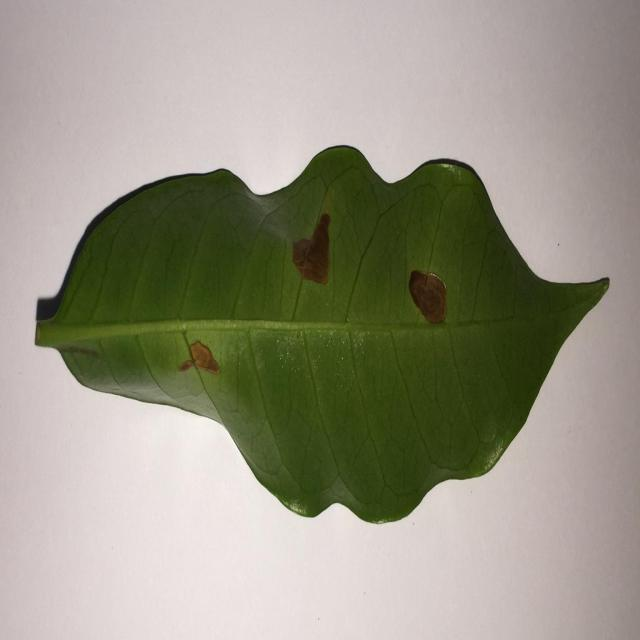Plaga-Minador: (34, 146, 612, 528)
